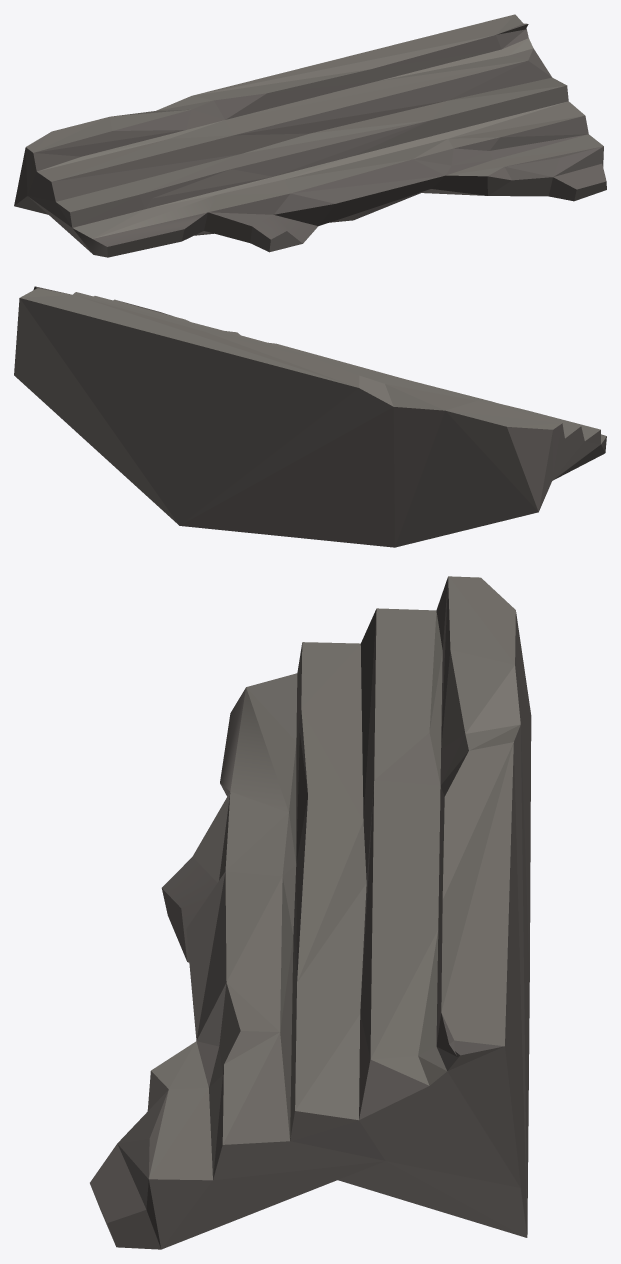
The model's file is SM_Env_Stairs_Broken_02.FBX.
3 renders of one model, top to bottom at view 1: azimuth 30°, elevation 25°; view 2: azimuth 150°, elevation 25°; view 3: azimuth 270°, elevation 25°, orthographic. The views are drawn at different scales.
Parts seen in each view (by area): view 1: SM_Env_Stairs_Broken_02; view 2: SM_Env_Stairs_Broken_02; view 3: SM_Env_Stairs_Broken_02.
Boxes of the visible parts, <box> form: SM_Env_Stairs_Broken_02: <box>14,14,606,257</box>; SM_Env_Stairs_Broken_02: <box>14,286,606,547</box>; SM_Env_Stairs_Broken_02: <box>90,576,531,1249</box>.
Size of what is drawn, in the model's own units: 496 by 191 by 165.
